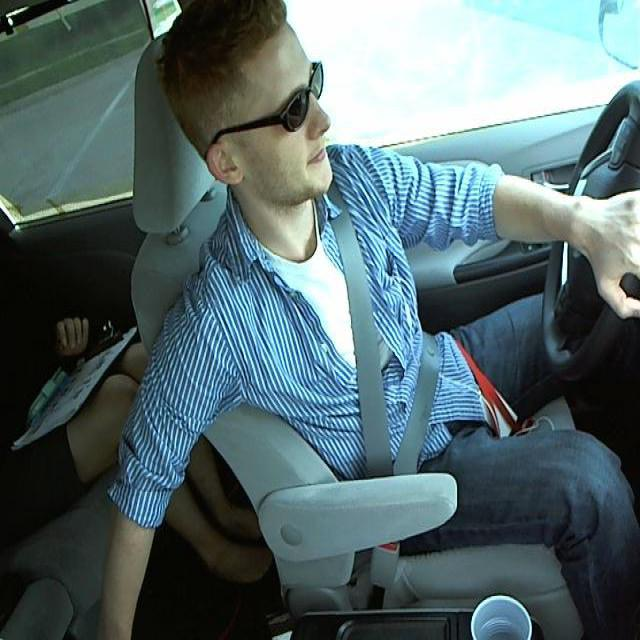seatbelt: (330, 233, 440, 471)
